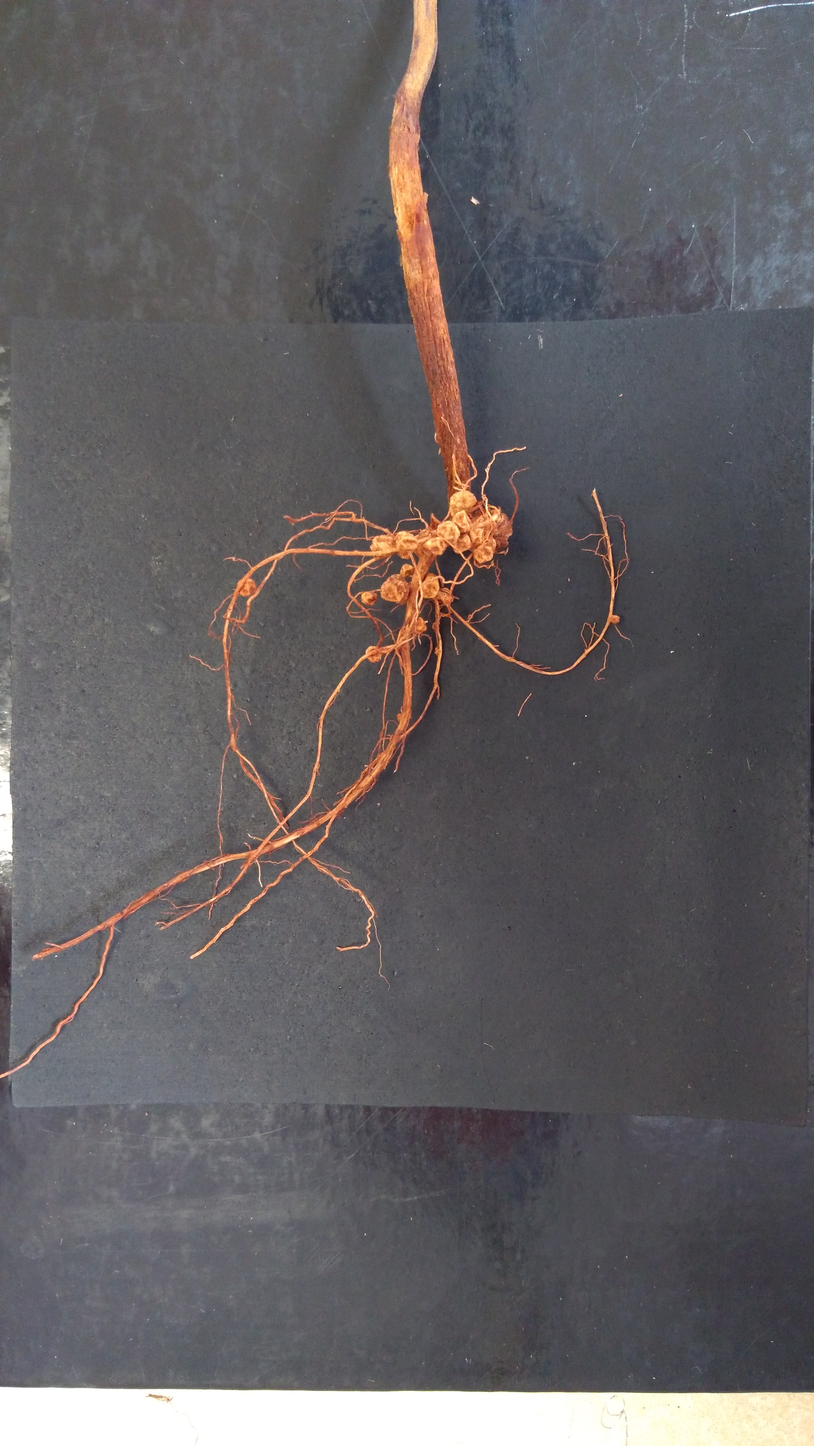nodule: (473, 509, 513, 552), (381, 574, 410, 604), (450, 490, 477, 516), (395, 531, 418, 559), (370, 535, 397, 557), (437, 520, 460, 544), (420, 573, 439, 599), (452, 510, 471, 533), (424, 537, 446, 555), (452, 534, 471, 553), (432, 588, 454, 604), (238, 579, 257, 597), (474, 546, 493, 563), (411, 617, 428, 635), (366, 646, 382, 663), (361, 592, 377, 606), (469, 528, 483, 544), (400, 564, 414, 577), (486, 538, 496, 551), (610, 615, 620, 624), (432, 622, 437, 632), (435, 647, 440, 656), (397, 714, 402, 721), (468, 614, 472, 620), (401, 706, 403, 713)
